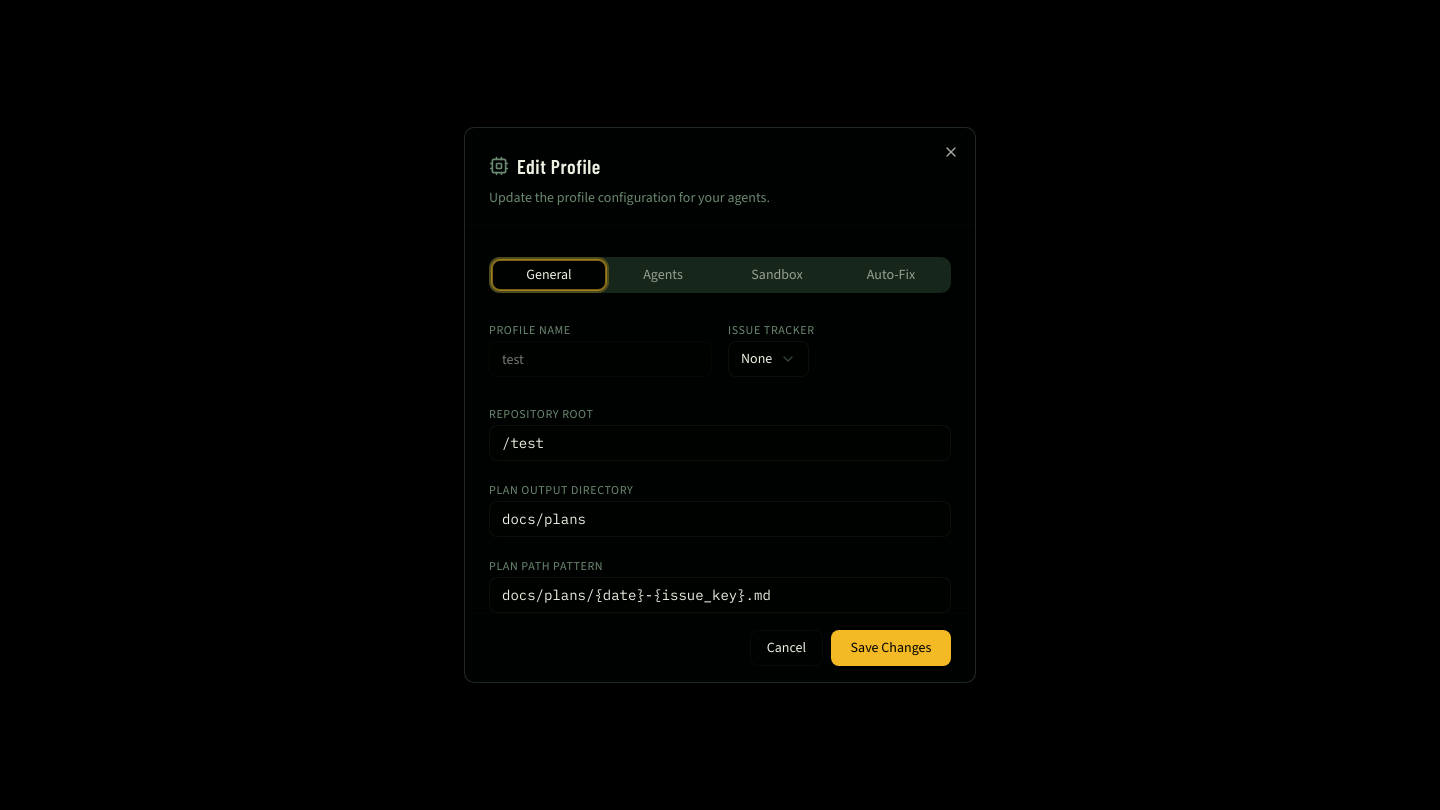
Test: Sandbox tab › should show allowed hosts when network allowlist is enabled
The width and height of the screenshot is (1440, 810).
What coordinates should you click on to do the following:
click the tab "Sandbox"
I would click on:
 (777, 275)
Its box is left=720, top=260, right=834, bottom=290.
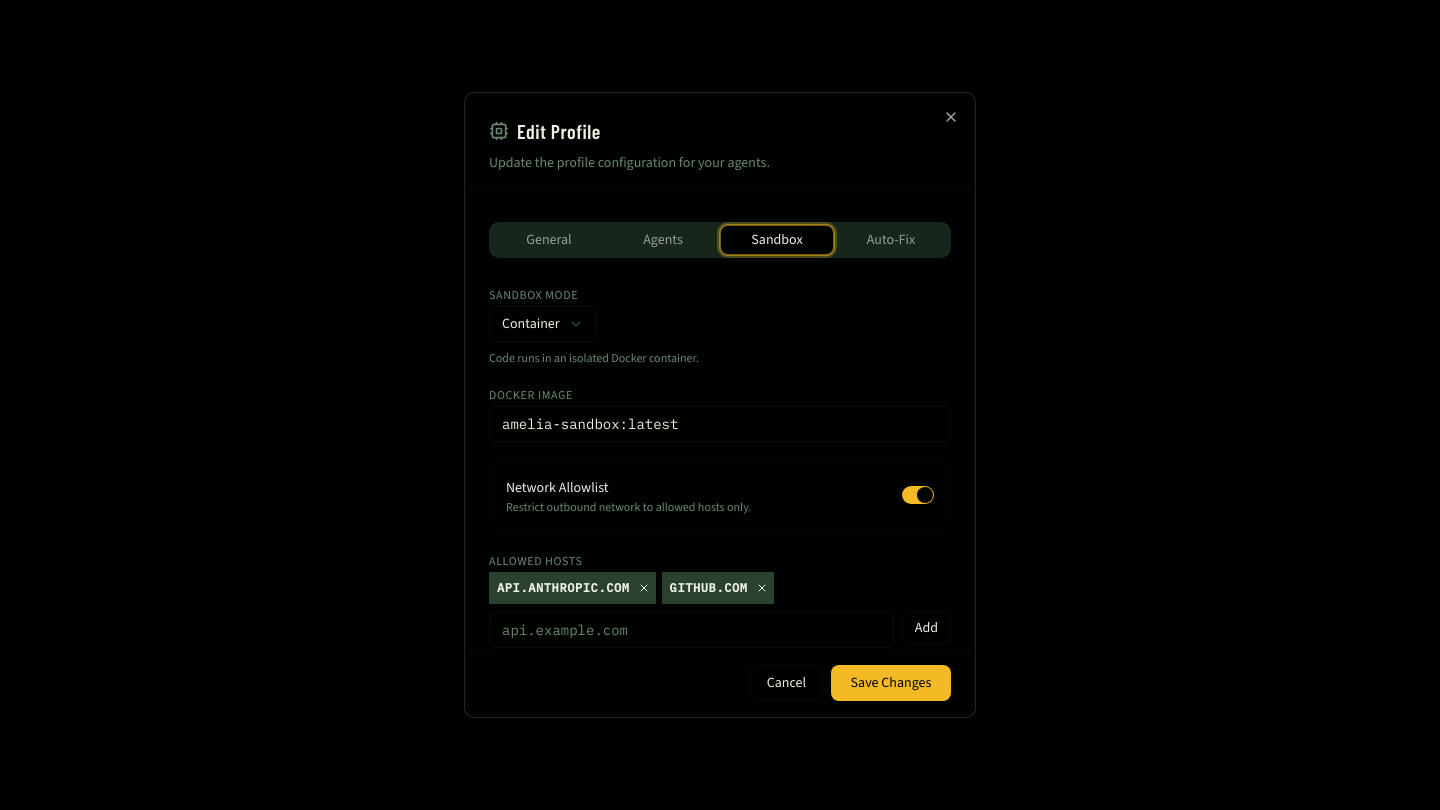
Result: the text "api.anthropic.com" is shown at left=489, top=572, right=656, bottom=604
Result: the text "github.com" is shown at left=662, top=572, right=774, bottom=604
